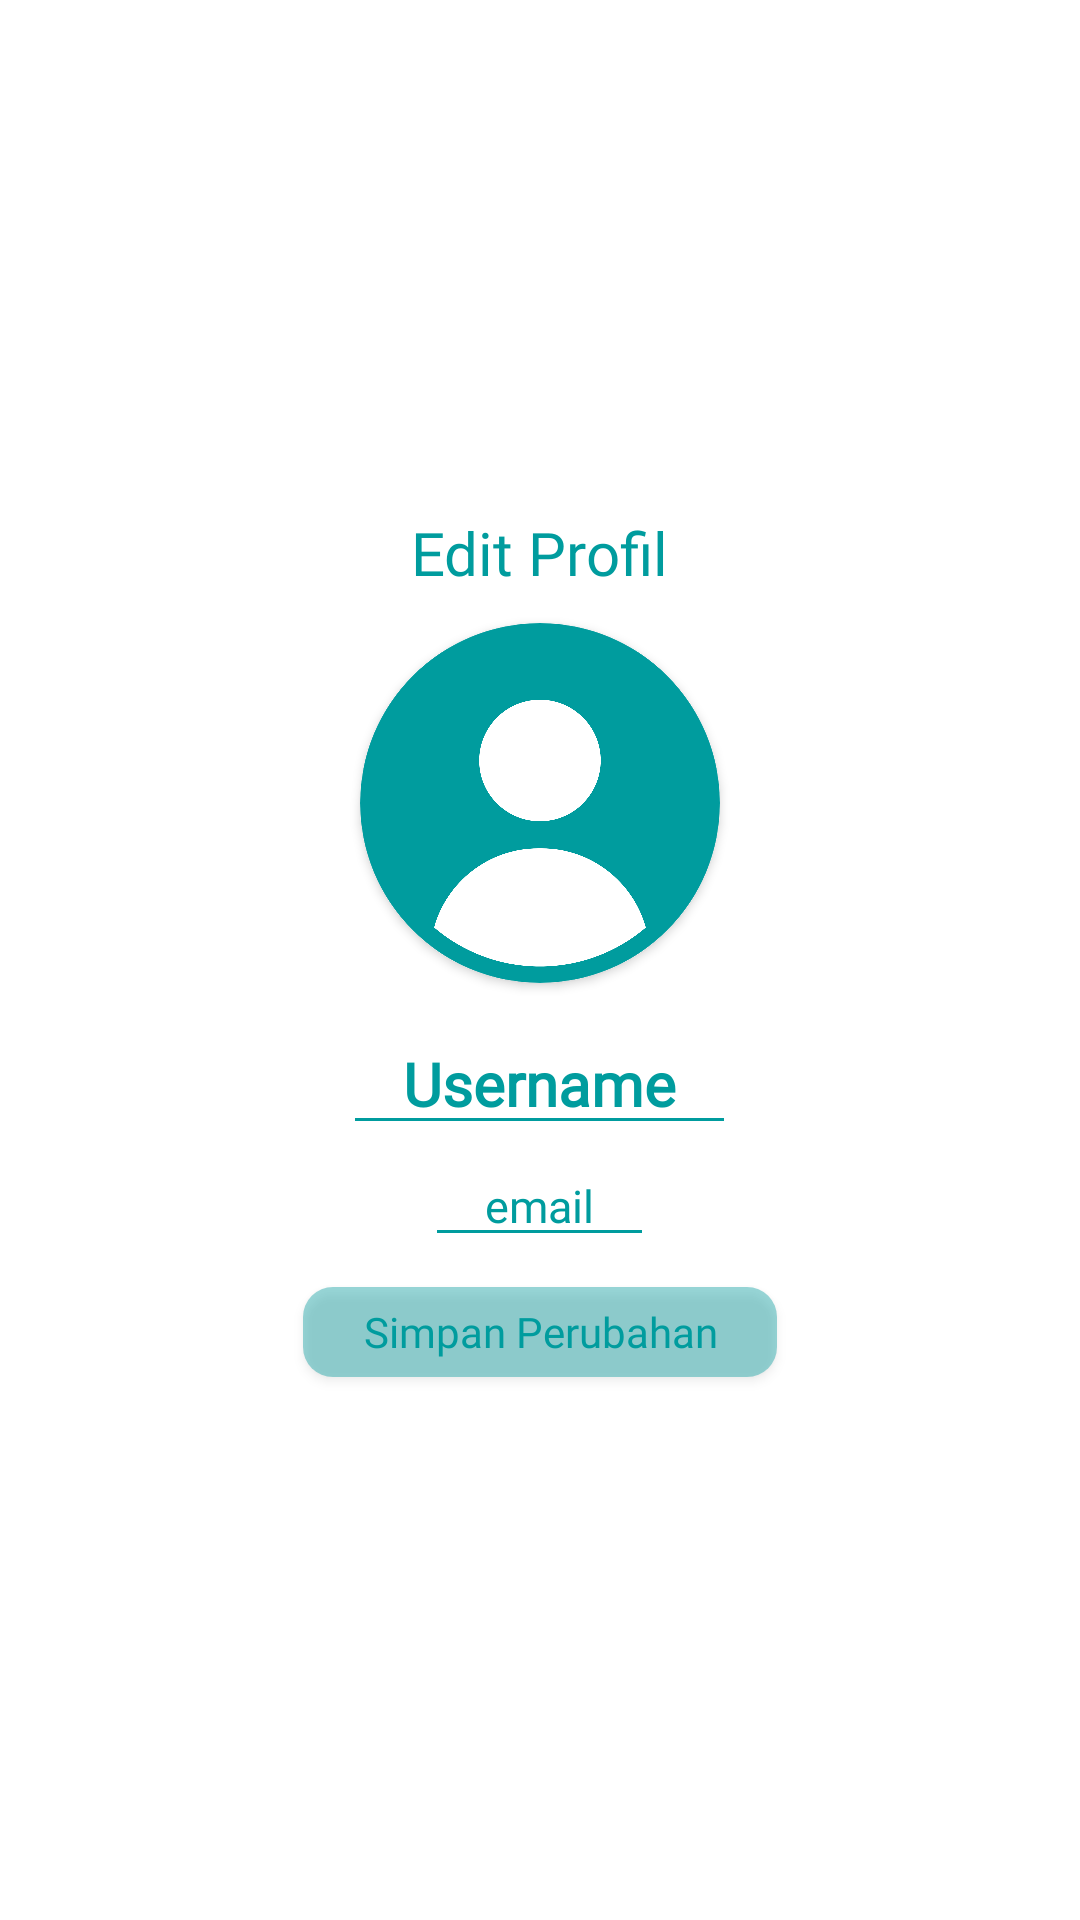

Icons on this 1080*1920 Android screen, each with the point to tap as (x,y):
userprofil: (540,803)
